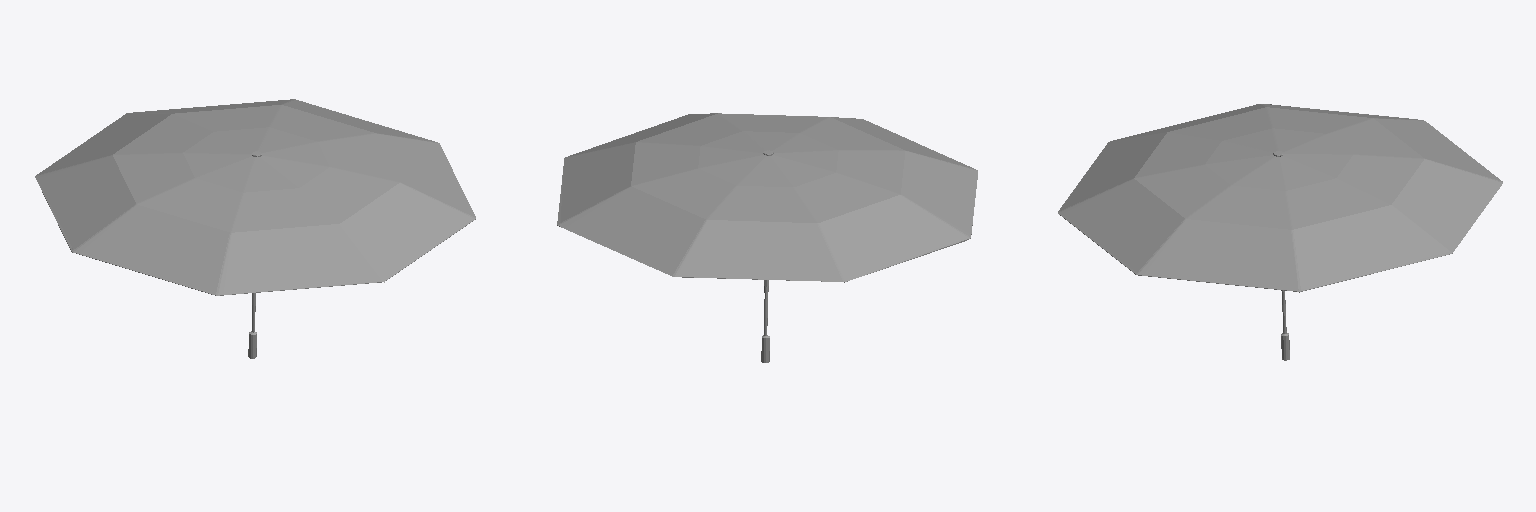
Rendered from Umbrella.obj.
3 renders of one model, left to right at view 1: azimuth 30°, elevation 25°; view 2: azimuth 150°, elevation 25°; view 3: azimuth 270°, elevation 25°, orthographic.
Visible parts, largest first — view 1: UmbrellaTop_Cylinder06; view 2: UmbrellaTop_Cylinder06; view 3: UmbrellaTop_Cylinder06.
Part boxes in pixels (left/top/right/bottom): UmbrellaTop_Cylinder06: left=35, top=99, right=475, bottom=295; UmbrellaTop_Cylinder06: left=557, top=113, right=977, bottom=281; UmbrellaTop_Cylinder06: left=1058, top=104, right=1502, bottom=291.
Bounding box in the file's own units: 2.72 × 1.39 × 2.72.